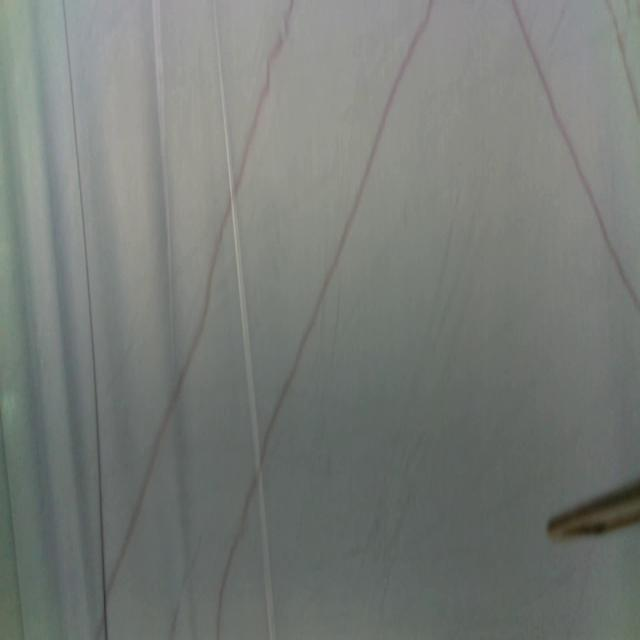crease: (212, 0, 276, 638), (63, 0, 110, 639), (153, 0, 174, 381), (0, 413, 27, 640)
